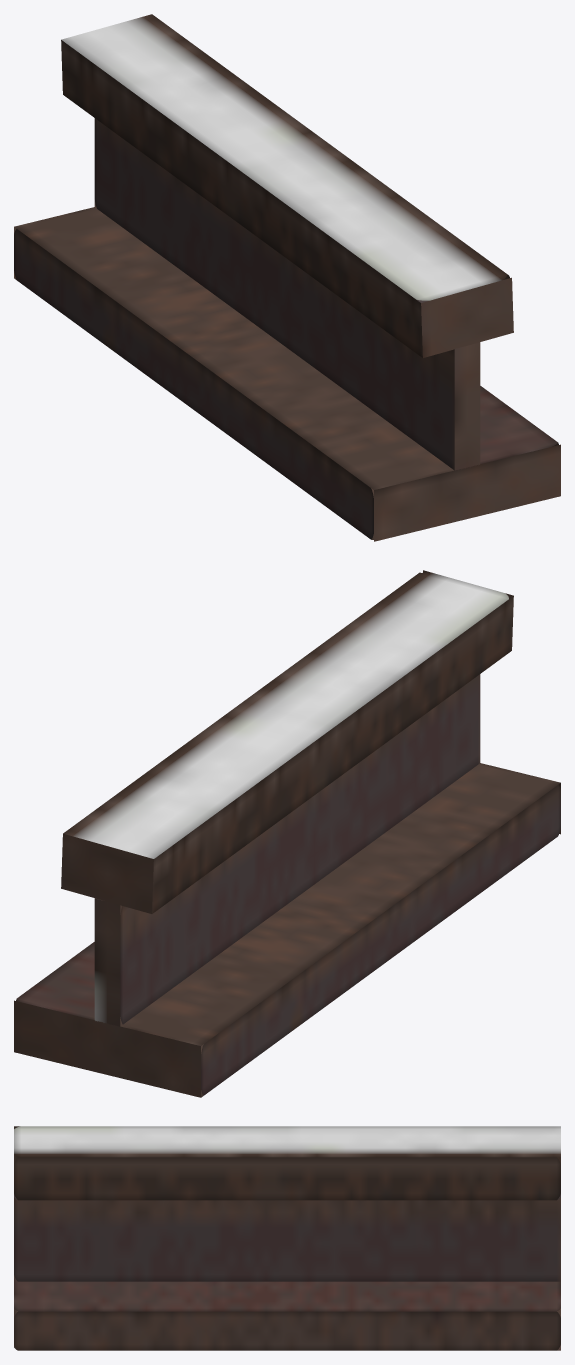
Rendered from segment_right.obj.
3 views of the same model, one above another, from view 1: azimuth 30°, elevation 25°; view 2: azimuth 150°, elevation 25°; view 3: azimuth 270°, elevation 25° (orthographic). The views are drawn at different scales.
Visible parts, largest first — view 1: tie1, tie3, tie2; view 2: tie1, tie3, tie2; view 3: tie2, tie3, tie1.
Boxes of the visible parts, box(x1,y1,x2,y2) form: tie1: box(14, 206, 560, 541); tie3: box(61, 14, 513, 357); tie2: box(94, 118, 480, 470); tie1: box(14, 763, 560, 1097); tie3: box(61, 570, 513, 913); tie2: box(94, 674, 480, 1026); tie2: box(14, 1197, 560, 1281); tie3: box(14, 1126, 560, 1200); tie1: box(14, 1275, 560, 1350).
Bounding box in the file's own units: 0.15 × 0.1767 × 0.5.
